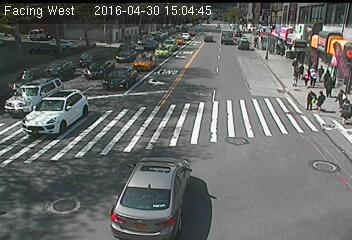neg: (107, 61, 133, 95), (42, 85, 67, 118), (65, 55, 86, 84), (157, 40, 177, 66), (138, 40, 155, 63), (93, 66, 102, 79)
pos: (310, 87, 332, 115), (300, 87, 321, 115)
